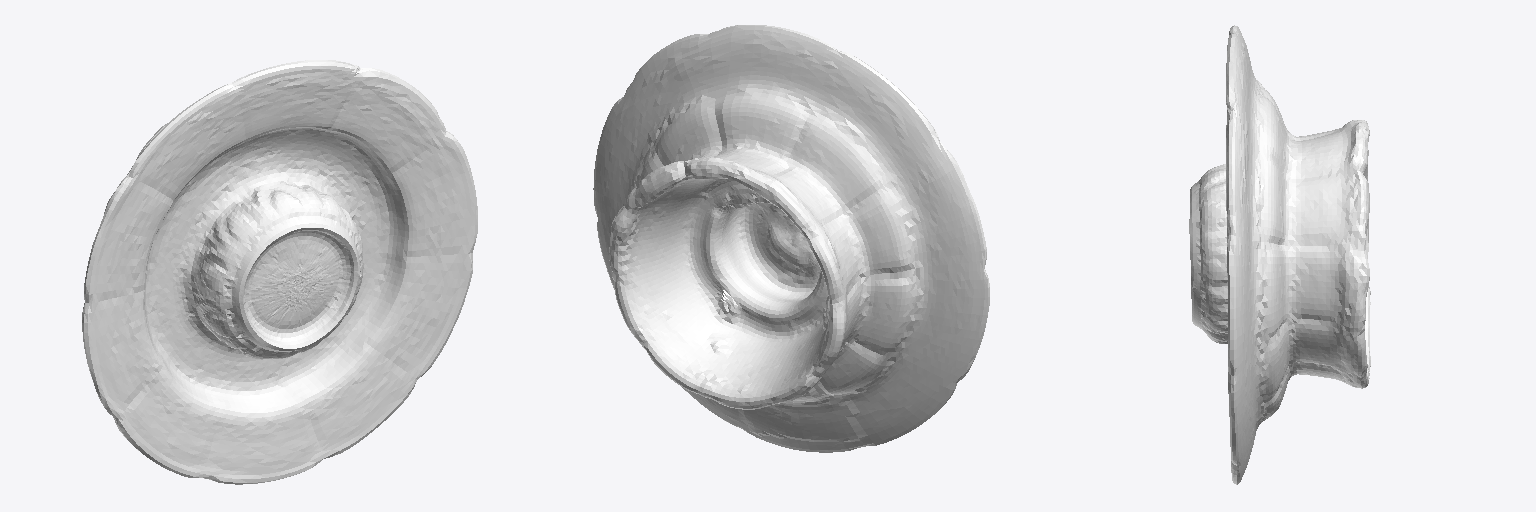
3 views of the same model, side by side, from view 1: azimuth 30°, elevation 25°; view 2: azimuth 150°, elevation 25°; view 3: azimuth 270°, elevation 25° (orthographic).
Visible parts, largest first — view 1: ssu015485-001-30000; view 2: ssu015485-001-30000; view 3: ssu015485-001-30000.
Boxes of the visible parts, x1,y1,x2,y2 form: ssu015485-001-30000: [82, 60, 477, 484]; ssu015485-001-30000: [593, 25, 989, 452]; ssu015485-001-30000: [1189, 25, 1370, 484].
Bounding box in the file's own units: 140 × 141 × 55.66.